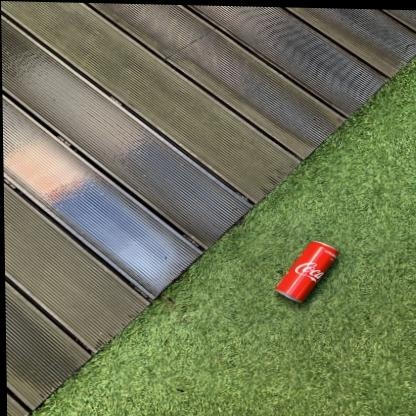trash: (276, 241, 337, 302)
